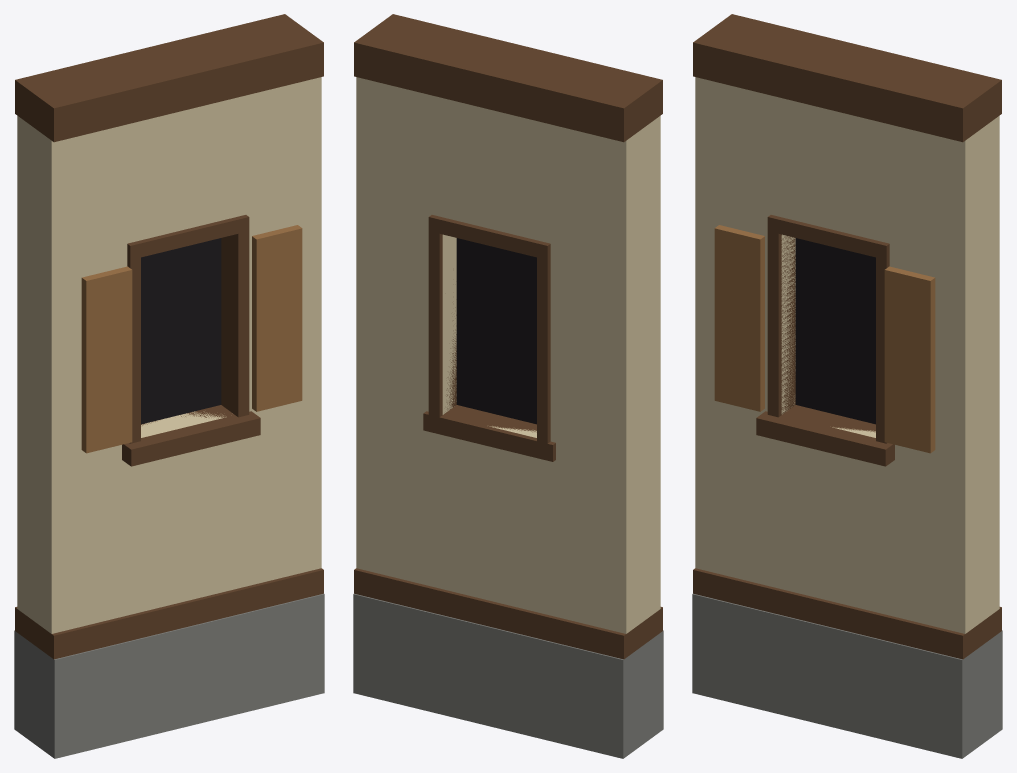
File: WallShuttered.fbx
The picture shows the model from 3 angles, left to right: view 1: azimuth 30°, elevation 25°; view 2: azimuth 150°, elevation 25°; view 3: azimuth 330°, elevation 25°; orthographic projection.
Parts seen in each view (by area): view 1: Kit_WallShuttered; view 2: Kit_WallShuttered; view 3: Kit_WallShuttered.
Part boxes in pixels (x1=…): Kit_WallShuttered: x1=14, y1=14, x2=324, y2=758; Kit_WallShuttered: x1=353, y1=14, x2=663, y2=758; Kit_WallShuttered: x1=692, y1=14, x2=1002, y2=758.
Size of the model in its own units: 1 by 2.3 by 0.3.
